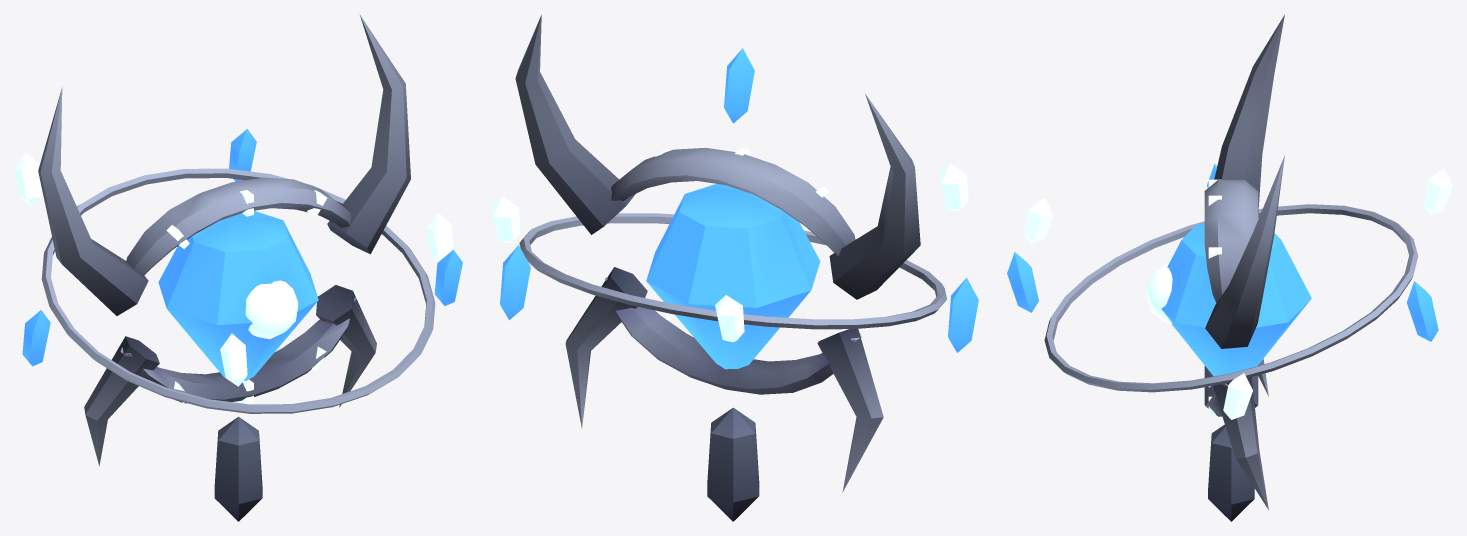
Rendered from monster_insight.glb.
The picture shows the model from 3 angles, left to right: view 1: azimuth 30°, elevation 25°; view 2: azimuth 150°, elevation 25°; view 3: azimuth 270°, elevation 25°; orthographic projection. The views are drawn at different scales.
Parts seen in each view (by area): view 1: body, ring2, ring; view 2: body, ring, ring2; view 3: body, ring2, ring.
Part boxes in pixels (x1,y1,x2,y2): body: (38, 14, 410, 521); ring2: (41, 168, 435, 413); ring: (14, 129, 462, 386); body: (515, 15, 920, 521); ring: (491, 48, 978, 352); ring2: (519, 213, 946, 329); body: (1145, 14, 1311, 521); ring2: (1044, 204, 1418, 392); ring: (1007, 164, 1452, 419).
Bounding box in the file's own units: 1.81 × 1.8 × 1.66.
